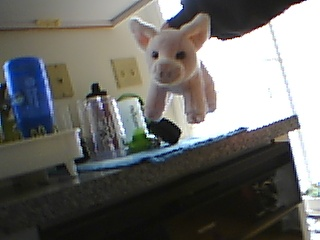piggy: (127, 12, 217, 124)
